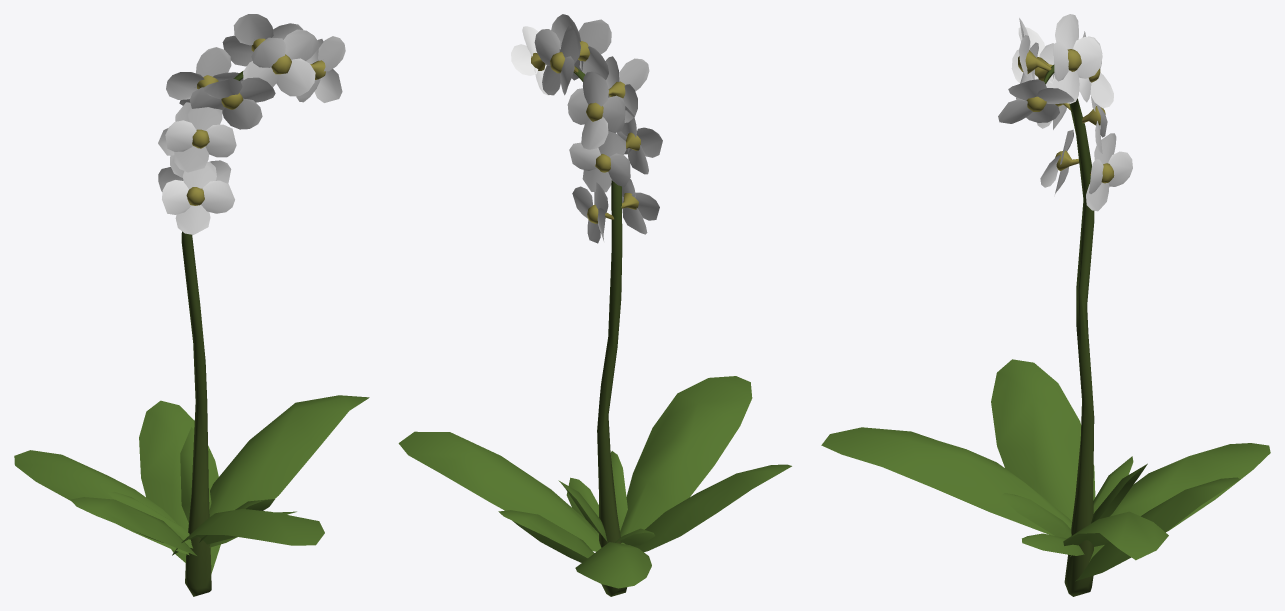
The model's file is Plant_c_01.fbx.
The picture shows the model from 3 angles, left to right: view 1: azimuth 30°, elevation 25°; view 2: azimuth 150°, elevation 25°; view 3: azimuth 270°, elevation 25°; orthographic projection. The views are drawn at different scales.
Parts seen in each view (by area): view 1: Plant_c_01; view 2: Plant_c_01; view 3: Plant_c_01.
Boxes of the visible parts, box(x1,y1,x2,y2) form: Plant_c_01: box(14, 14, 369, 596); Plant_c_01: box(398, 14, 791, 596); Plant_c_01: box(821, 14, 1270, 596).
Size of the model in its own units: 9.94 by 15.5 by 10.44.
